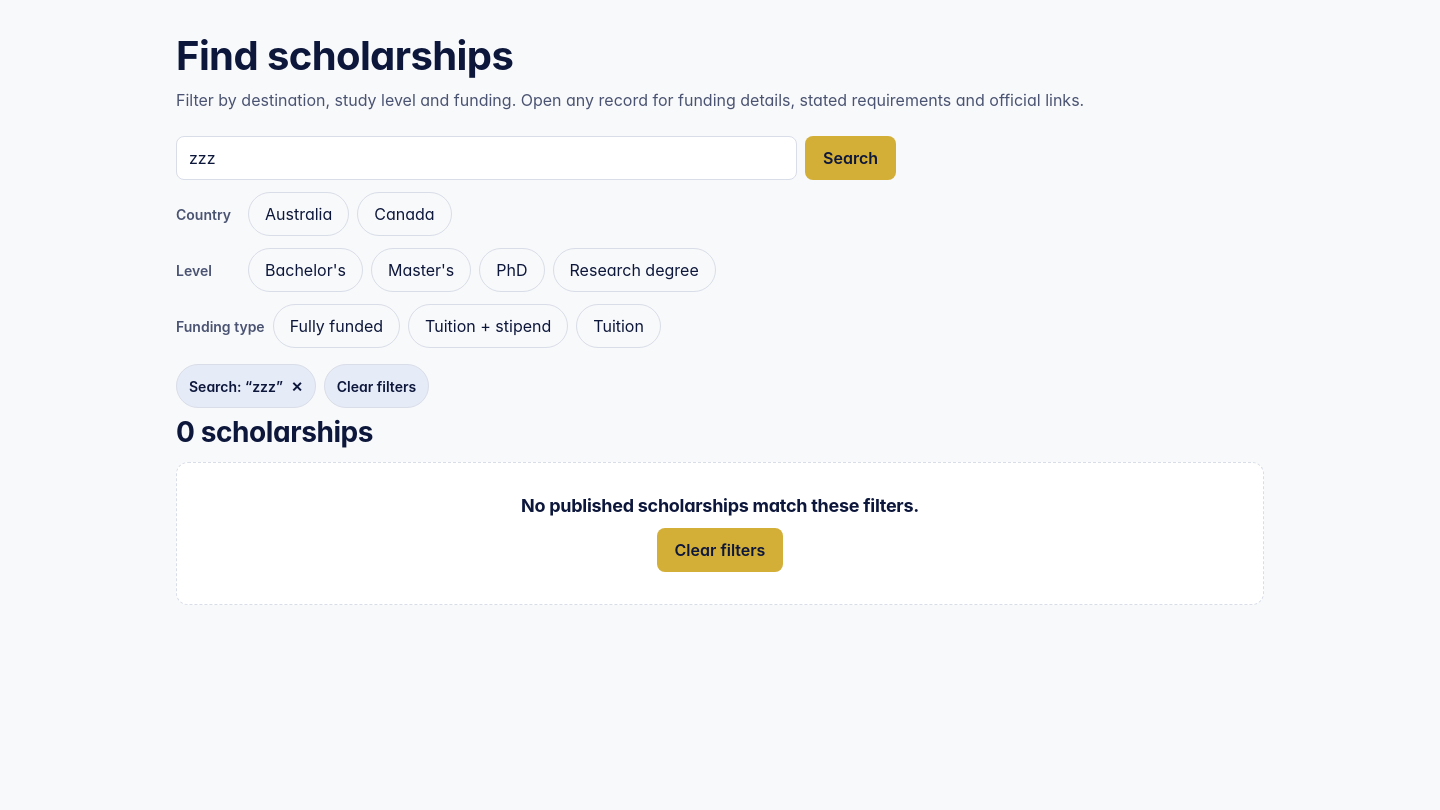
Test case: ExplorePage › explains an empty result instead of showing a blank page
Check: the heading "No published scholarships match these filters." is shown, box [521,495,919,516]
Click the 2nd button "Clear filters" at (720, 550), box [657,528,783,572]
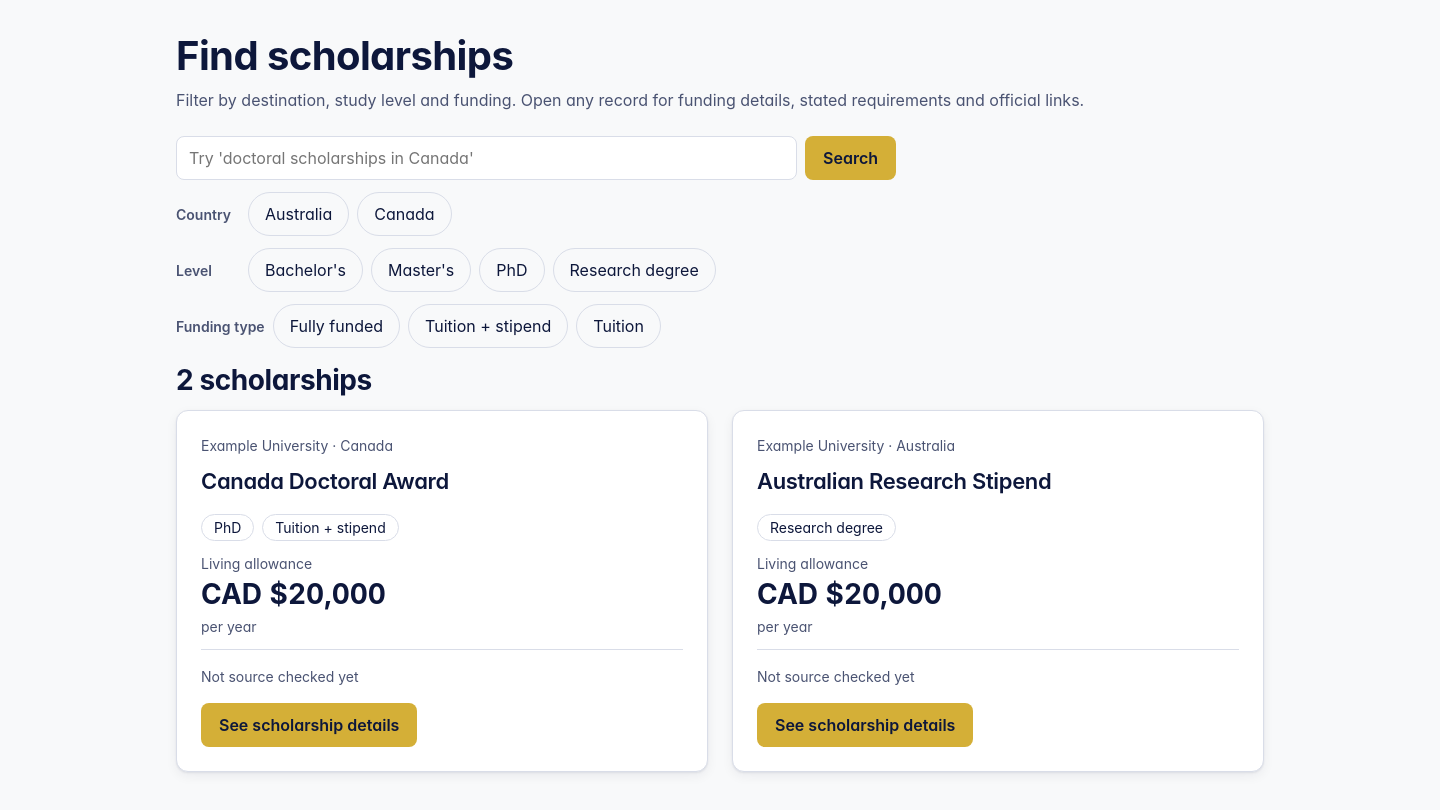
Check: the field named "Search scholarships" is empty, box [176,136,797,180]
